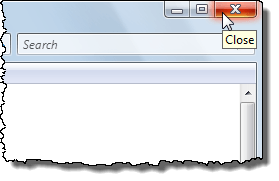close: (214, 1, 257, 17)
